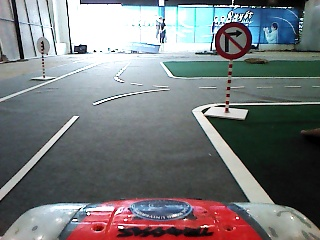ban_right: (215, 22, 252, 60)
